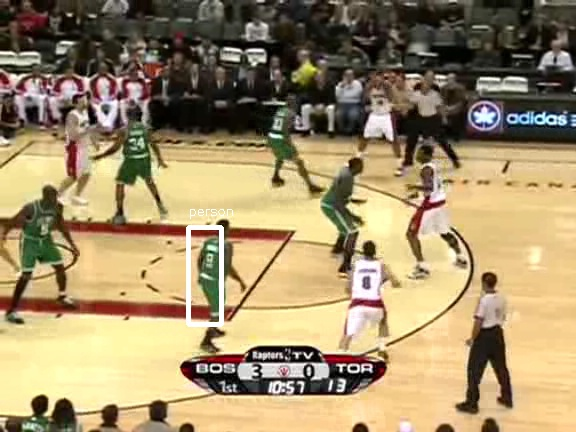person: (200, 234, 234, 315), (199, 234, 233, 315), (201, 234, 235, 315), (200, 233, 234, 314), (200, 235, 234, 316)
target_negative: (254, 20, 448, 303), (138, 255, 543, 381), (247, 307, 276, 432), (52, 371, 98, 403), (551, 148, 572, 156), (294, 389, 303, 405)
